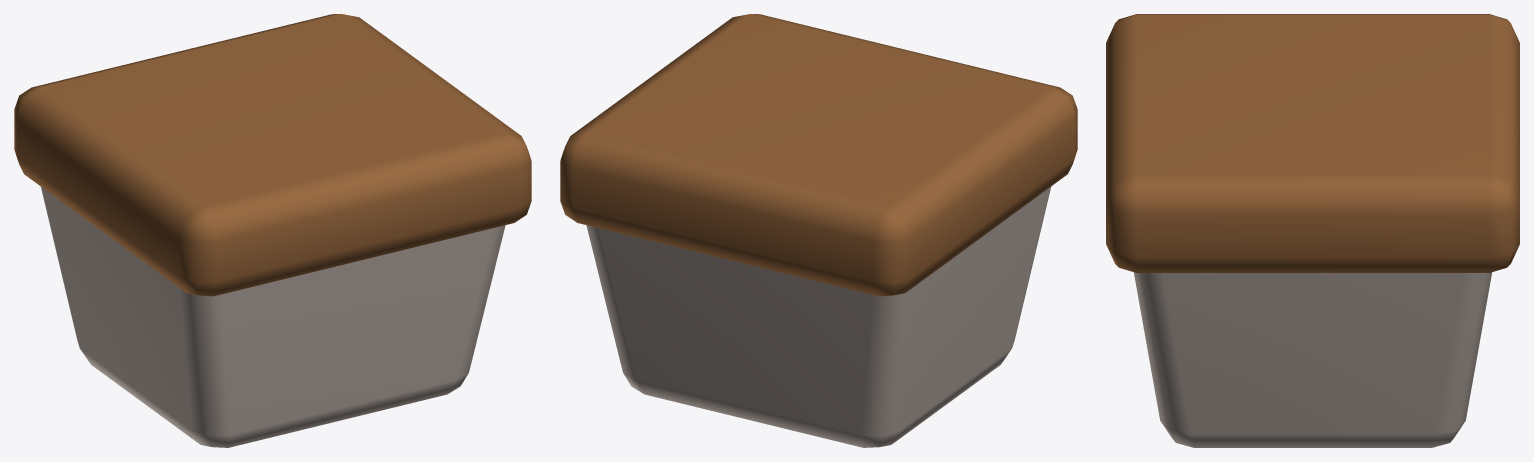
Rendered from stool_01_brown_light.fbx.
The picture shows the model from 3 angles, left to right: view 1: azimuth 30°, elevation 25°; view 2: azimuth 150°, elevation 25°; view 3: azimuth 270°, elevation 25°; orthographic projection. The views are drawn at different scales.
Parts seen in each view (by area): view 1: stool_01_brown_light; view 2: stool_01_brown_light; view 3: stool_01_brown_light.
Boxes of the visible parts, x1,y1,x2,y2 form: stool_01_brown_light: (14,14,531,447); stool_01_brown_light: (560,14,1077,447); stool_01_brown_light: (1106,14,1519,447).
Size of the model in its own units: 57.16 by 42.36 by 54.02.
Materials: 1 (1 with a texture image).
